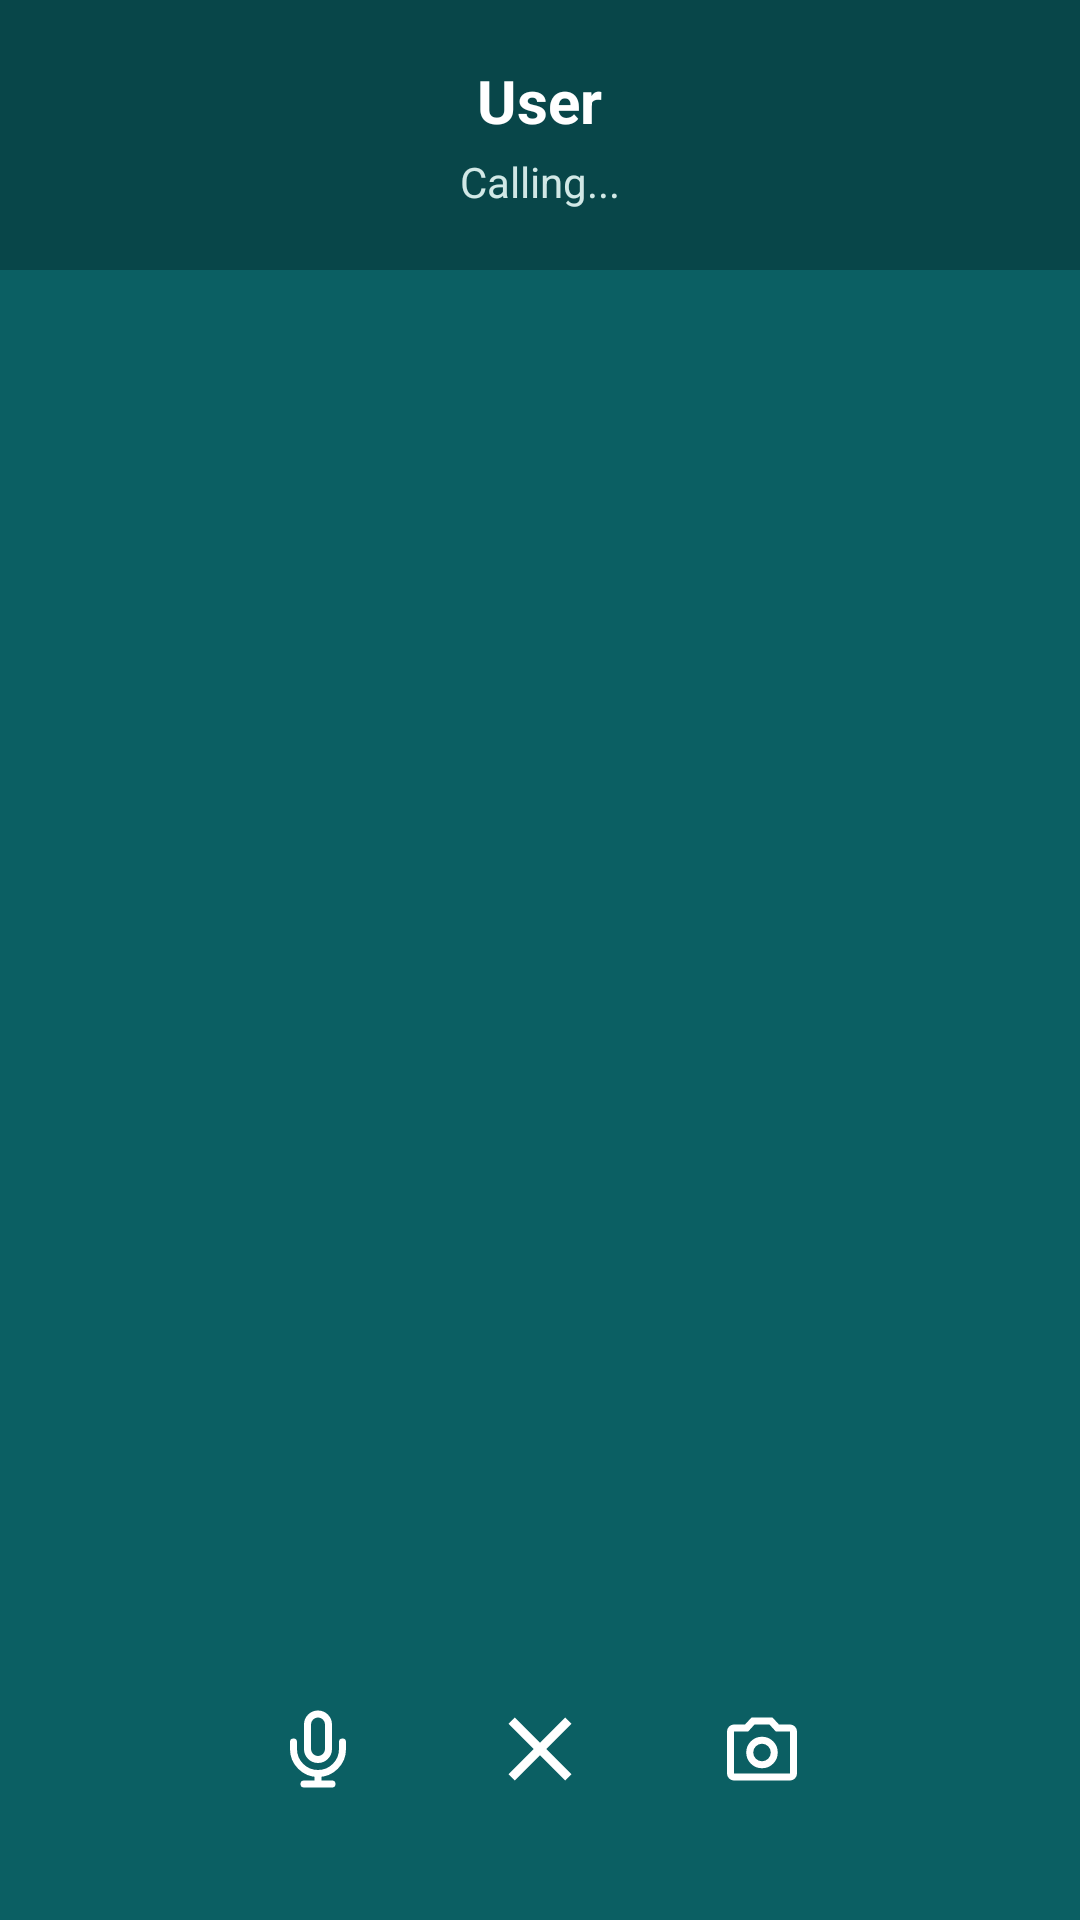

Icons on this 1080px×1920px Android screen, each with the point to tap as (x=x, y=y):
End Call: (x=540, y=1749)
Mute: (x=318, y=1749)
Switch Camera: (x=762, y=1749)
